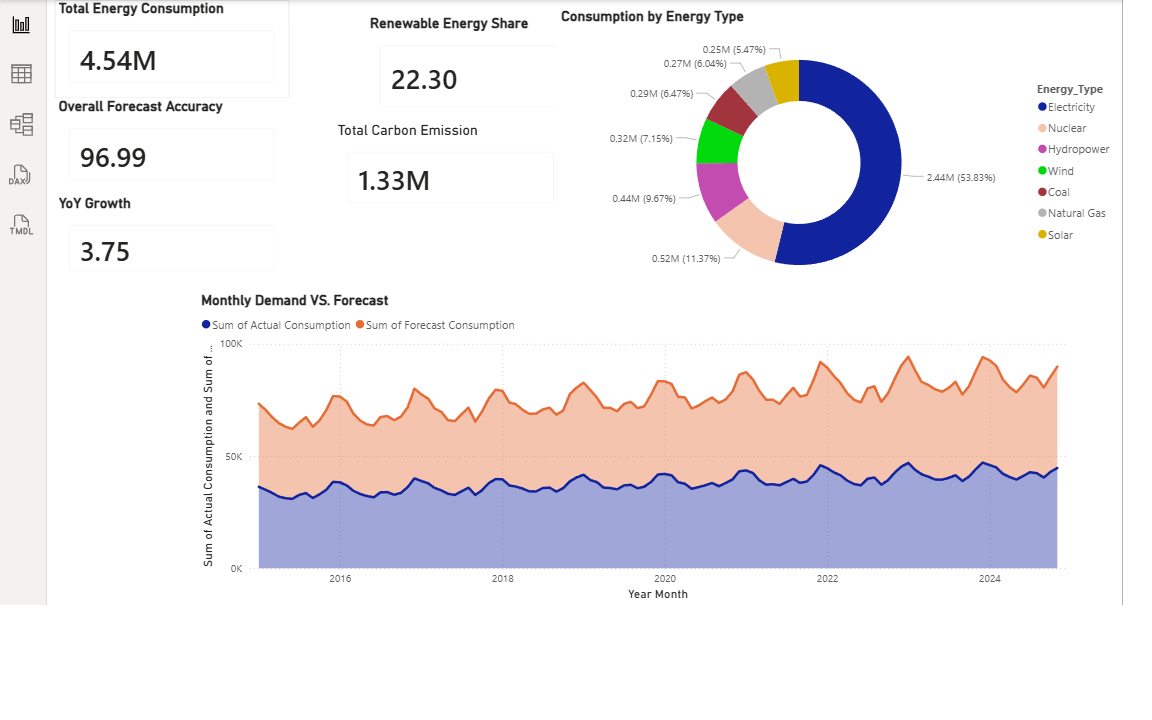

The dashboard page shown, as its layout file describes it:
{"tool":"powerbi","page":{"name":"Overview","canvas":[1280,720],"ordinal":0},"visuals":[{"type":"cardVisual","title":"Total Energy Consumption","fields":{"Data":["Sum(KPI_Summary.Value)"]},"box":[9.6,0,279.9,116.6],"z":0},{"type":"cardVisual","title":"Overall Forecast Accuracy","fields":{"Data":["Sum(KPI_Summary.Value)"]},"box":[9.6,116.6,279.9,115.3],"z":1},{"type":"cardVisual","title":"Renewable Energy Share","fields":{"Data":["Sum(KPI_Summary.Value)"]},"box":[379.4,17.5,280.5,126.9],"z":2},{"type":"cardVisual","title":"Total Carbon Emission","fields":{"Data":["Sum(KPI_Summary.Value)"]},"box":[341,144.3,280.5,115.2],"z":3},{"type":"cardVisual","title":"YoY Growth","fields":{"Data":["Sum(KPI_Summary.Value)"]},"box":[9.3,231.6,280.5,108.2],"z":4},{"type":"stackedAreaChart","title":"Monthly Demand VS. Forecast","fields":{"Y":["Sum(Monthly_Forecast.Actual_Consumption)","Sum(Monthly_Forecast.Forecast_Consumption)"],"Category":["Monthly_Forecast.Year Month"]},"box":[179.2,346.8,1042.8,373.6],"z":5},{"type":"donutChart","title":"Consumption by Energy Type","fields":{"Category":["Fact_Energy.Energy_Type"],"Y":["Sum(Fact_Energy.Actual_Consumption)"]},"box":[607.5,9.3,672.7,350.3],"z":6}]}

Visuals, with their boxes on the page's 1280x720 design canvas (x1, y1, x2, y2). These are canvas units, not pixel positions in the 1152x720 screenshot, which may show the page scaled, cropped or inside an application window:
"Total Energy Consumption" cardVisual: (left=10, top=0, right=290, bottom=117)
"Overall Forecast Accuracy" cardVisual: (left=10, top=117, right=290, bottom=232)
"Renewable Energy Share" cardVisual: (left=379, top=18, right=660, bottom=144)
"Total Carbon Emission" cardVisual: (left=341, top=144, right=622, bottom=260)
"YoY Growth" cardVisual: (left=9, top=232, right=290, bottom=340)
"Monthly Demand VS. Forecast" stackedAreaChart: (left=179, top=347, right=1222, bottom=720)
"Consumption by Energy Type" donutChart: (left=608, top=9, right=1280, bottom=360)
